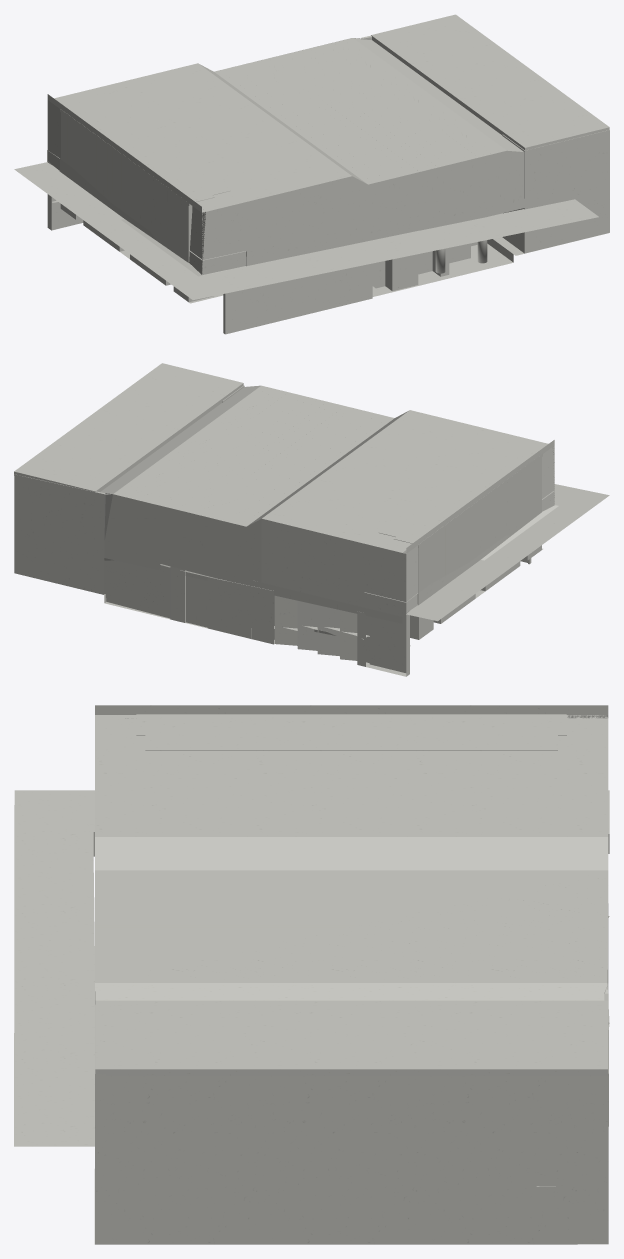
Rendered from theta_noPillar.fbx.
3 views of the same model, one above another, from view 1: azimuth 30°, elevation 25°; view 2: azimuth 150°, elevation 25°; view 3: azimuth 270°, elevation 25° (orthographic). The views are drawn at different scales.
Parts seen in each view (by area): view 1: concrete; view 2: concrete; view 3: concrete.
Boxes of the visible parts, x1=… form: concrete: x1=14, y1=14, x2=609, y2=334; concrete: x1=14, y1=363, x2=609, y2=676; concrete: x1=14, y1=705, x2=609, y2=1244.
Bounding box in the file's own units: 4747 × 1378 × 3338.
